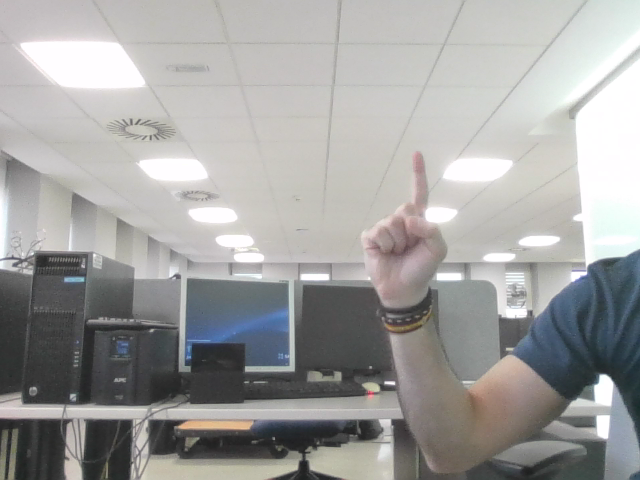1Dedo: (375, 163, 434, 271)
